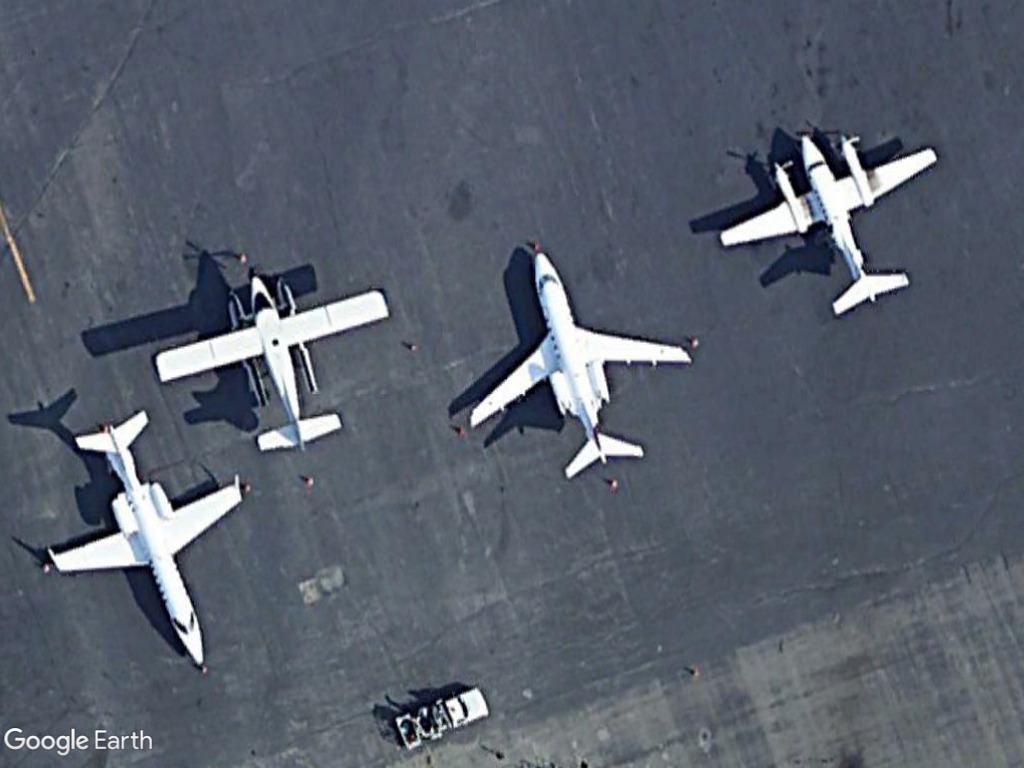chartered: (29, 408, 255, 670), (466, 243, 698, 482)
propeller: (709, 126, 950, 317)
trainer: (147, 272, 392, 460)
